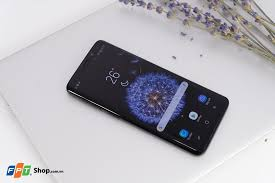samsung: (65, 37, 230, 156)
